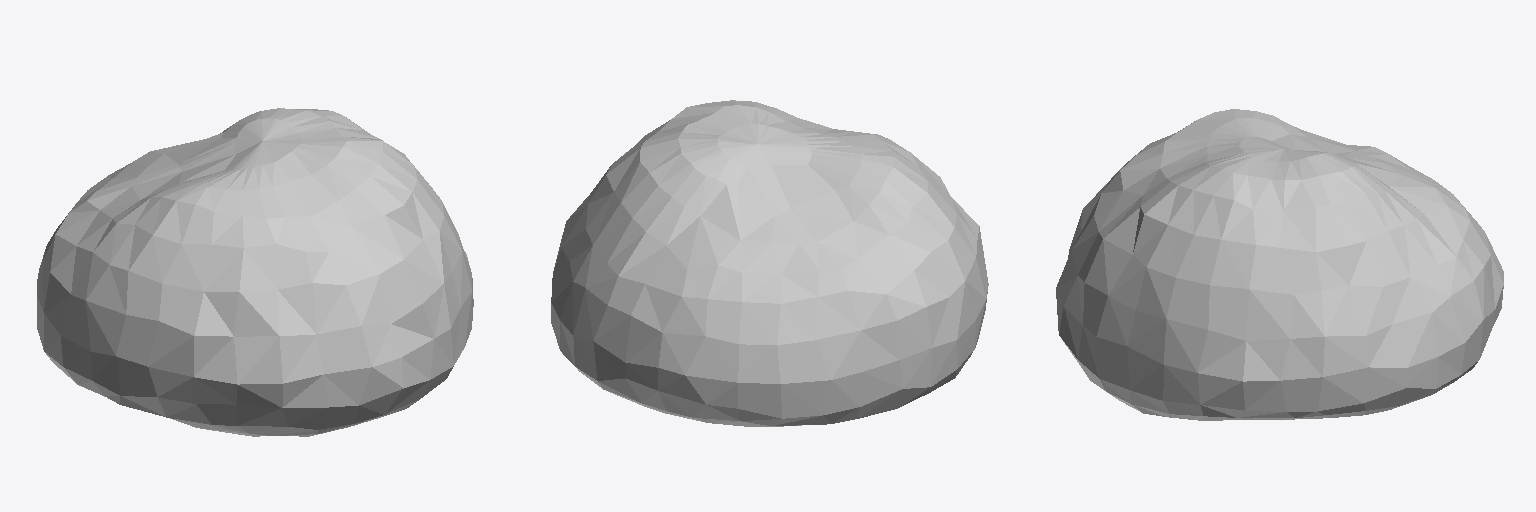
Rendered from rock1.obj.
3 views of the same model, side by side, from view 1: azimuth 30°, elevation 25°; view 2: azimuth 150°, elevation 25°; view 3: azimuth 270°, elevation 25° (orthographic).
Size of the model in its own units: 0.6817 by 0.3968 by 0.6883.